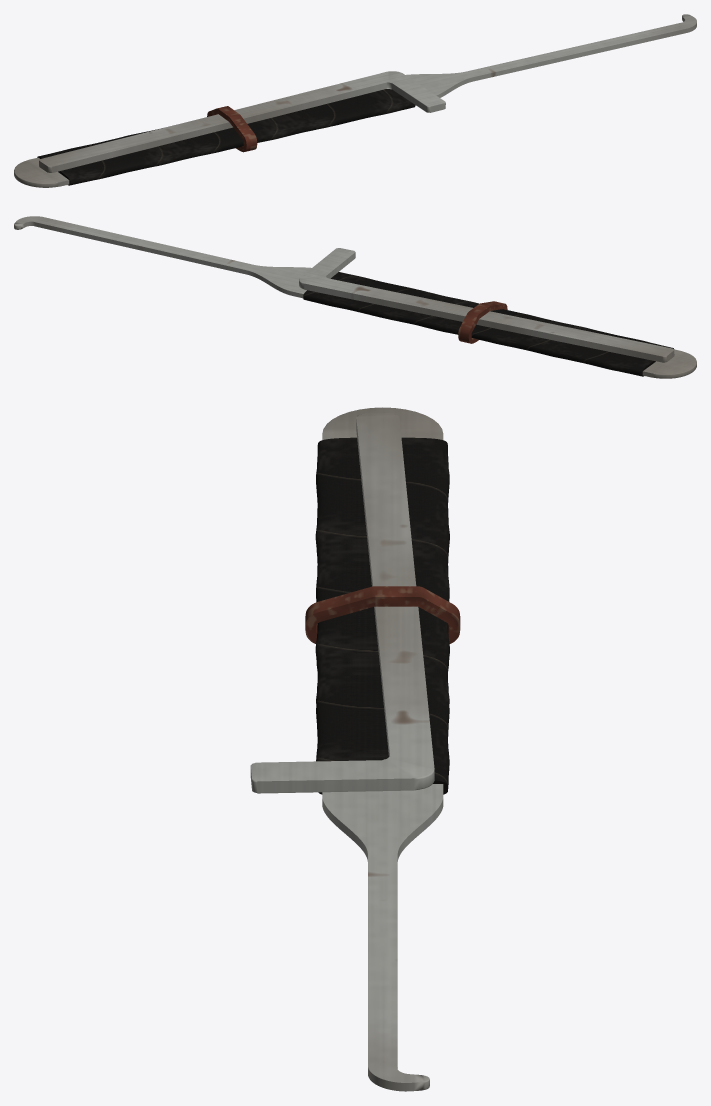
Rendered from LockPick.glb.
The picture shows the model from 3 angles, top to bottom: view 1: azimuth 30°, elevation 25°; view 2: azimuth 150°, elevation 25°; view 3: azimuth 270°, elevation 25°; orthographic projection. The views are drawn at different scales.
Parts seen in each view (by area): view 1: GripTape, TensionWrench, HookPick, RubberBand; view 2: TensionWrench, GripTape, HookPick, RubberBand; view 3: GripTape, TensionWrench, HookPick, RubberBand.
Boxes of the visible parts, x1,y1,x2,y2 form: GripTape: [37, 89, 415, 185]; TensionWrench: [39, 71, 445, 172]; HookPick: [14, 14, 696, 187]; RubberBand: [207, 106, 257, 152]; TensionWrench: [299, 248, 674, 362]; GripTape: [303, 272, 673, 376]; HookPick: [14, 216, 696, 378]; RubberBand: [458, 301, 507, 343]; GripTape: [315, 437, 449, 794]; TensionWrench: [250, 413, 434, 793]; HookPick: [322, 407, 443, 1091]; RubberBand: [305, 586, 460, 643].
Bounding box in the file's own units: 0.1148 × 0.00425 × 0.0155.
3 materials, 3 textured.
